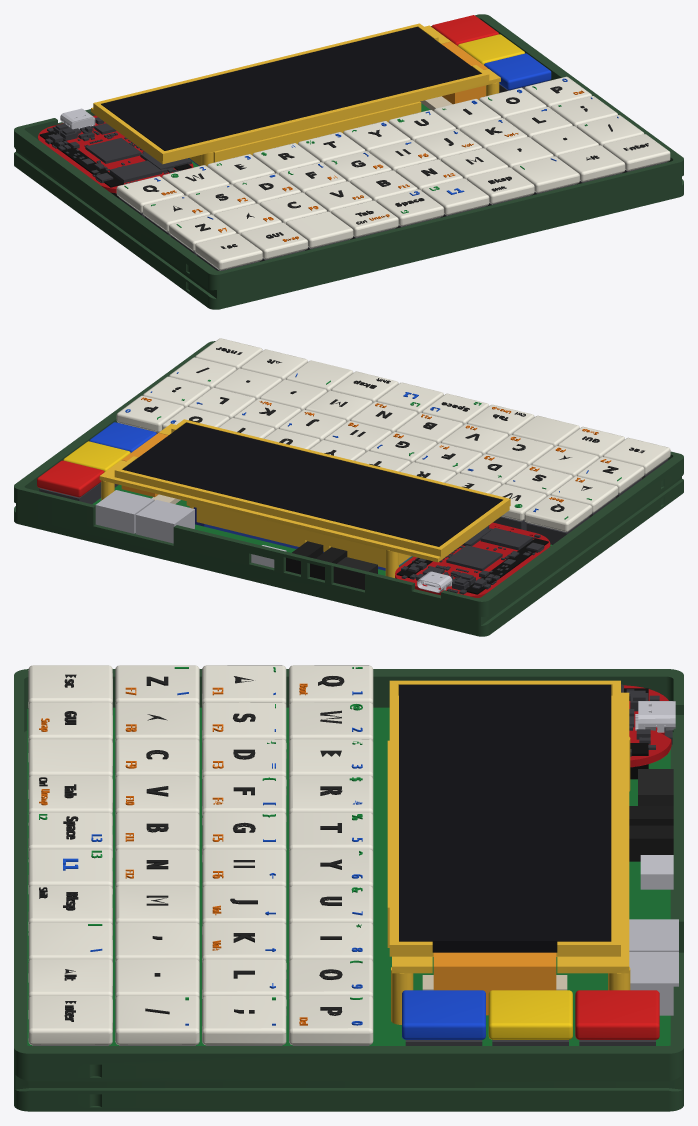
The model's file is open_forest.glb.
3 views of the same model, one above another, from view 1: azimuth 30°, elevation 25°; view 2: azimuth 150°, elevation 25°; view 3: azimuth 270°, elevation 25° (orthographic). The views are drawn at different scales.
Visible parts, largest first — view 1: Internals, Tray; view 2: Internals, Tray; view 3: Internals, Tray.
Part boxes in pixels (x1,y1,x2,y2): Internals: (38, 15, 670, 270); Tray: (14, 14, 683, 309); Internals: (37, 338, 670, 597); Tray: (14, 341, 683, 636); Internals: (27, 665, 678, 1045); Tray: (14, 669, 683, 1111).
Size of the model in its own units: 0.1782 by 0.0211 by 0.1312.
